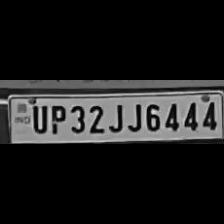2: (85, 100, 105, 134)
3: (66, 100, 86, 134)
4: (160, 98, 180, 132), (198, 96, 216, 130), (180, 97, 198, 130)
6: (142, 100, 160, 132)
J: (106, 100, 124, 134), (124, 100, 142, 132)
P: (46, 102, 66, 134)
U: (28, 101, 48, 133)
